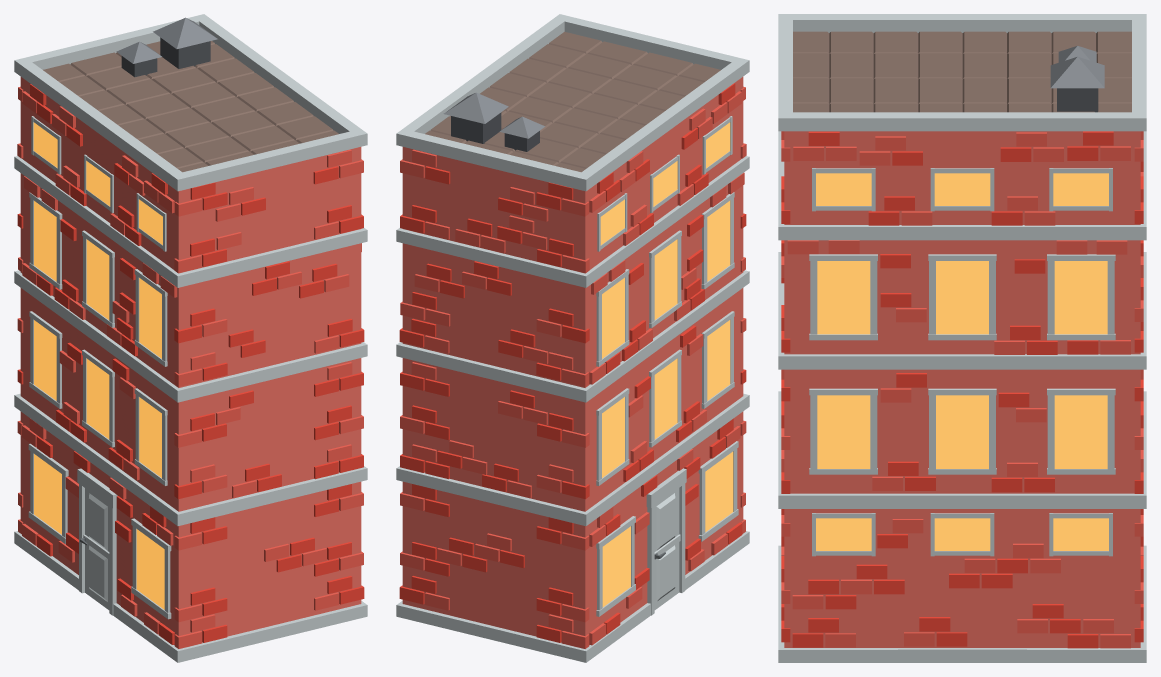
Rendered from SM_House_14_A.fbx.
The picture shows the model from 3 angles, left to right: view 1: azimuth 30°, elevation 25°; view 2: azimuth 150°, elevation 25°; view 3: azimuth 270°, elevation 25°; orthographic projection. The views are drawn at different scales.
Visible parts, largest first — view 1: SM_House_14_A_LOD0; view 2: SM_House_14_A_LOD0; view 3: SM_House_14_A_LOD0.
Boxes of the visible parts, <box> form: SM_House_14_A_LOD0: <box>14,14,367,662</box>; SM_House_14_A_LOD0: <box>396,14,749,662</box>; SM_House_14_A_LOD0: <box>778,14,1146,662</box>.
Bounding box in the file's own units: 425 × 620 × 1077.
1 material, 1 textured.
